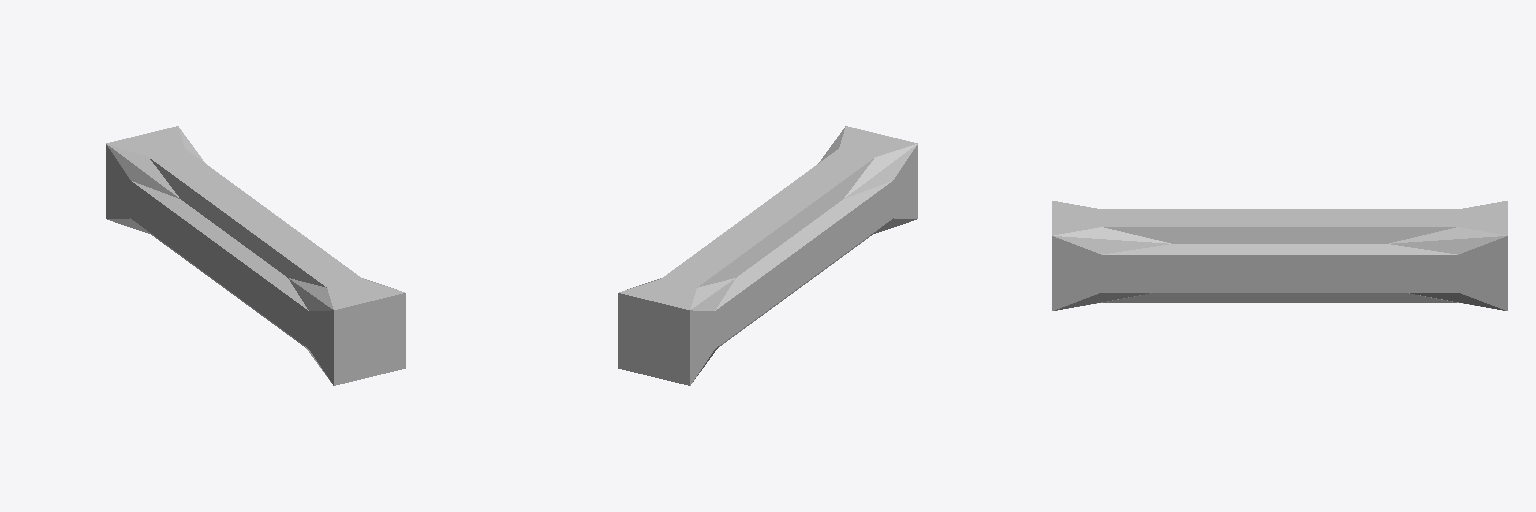
The model's file is axle.obj.
3 renders of one model, left to right at view 1: azimuth 30°, elevation 25°; view 2: azimuth 150°, elevation 25°; view 3: azimuth 270°, elevation 25°, orthographic.
Parts seen in each view (by area): view 1: Cube; view 2: Cube; view 3: Cube.
Part boxes in pixels (bbox=[...]): Cube: bbox=[106, 126, 405, 385]; Cube: bbox=[618, 126, 917, 385]; Cube: bbox=[1052, 201, 1507, 310].
Size of the model in its own units: 0.183 by 0.183 by 0.9992.